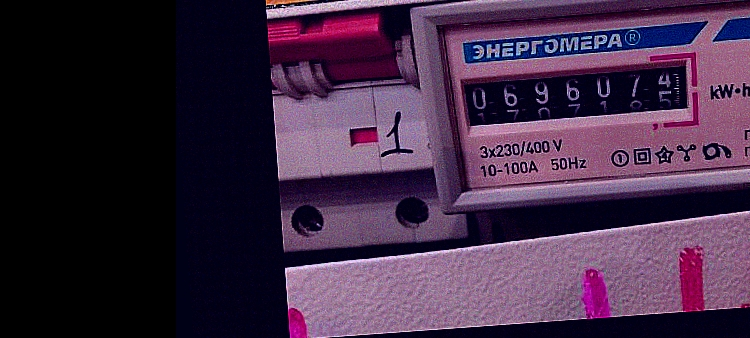0: (469, 84, 489, 110), (595, 72, 612, 99)
4: (656, 67, 672, 88)
5: (658, 88, 673, 108)
6: (500, 81, 520, 107), (564, 74, 582, 102)
7: (626, 71, 643, 98)
9: (532, 78, 551, 105)
screen: (454, 48, 705, 143)
